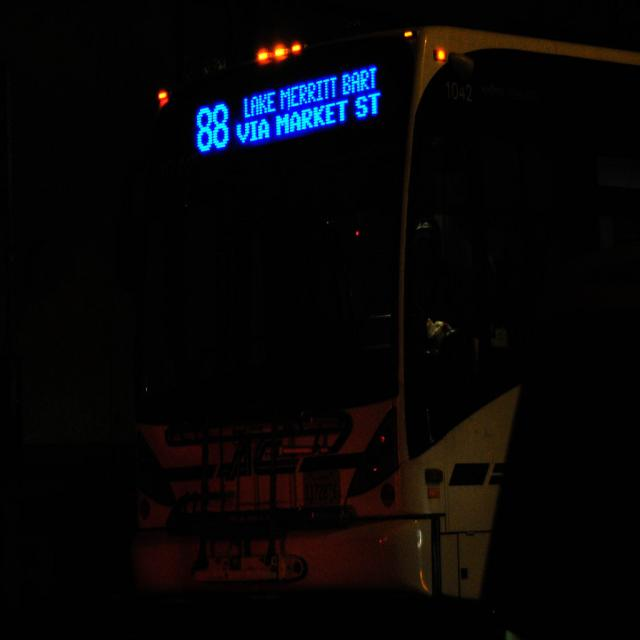Bus: (140, 18, 640, 640)
